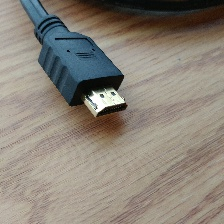hdmi_male: (70, 95, 166, 202)
